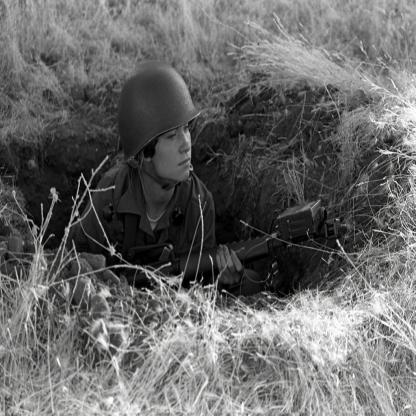Helmet: (115, 68, 200, 184)
